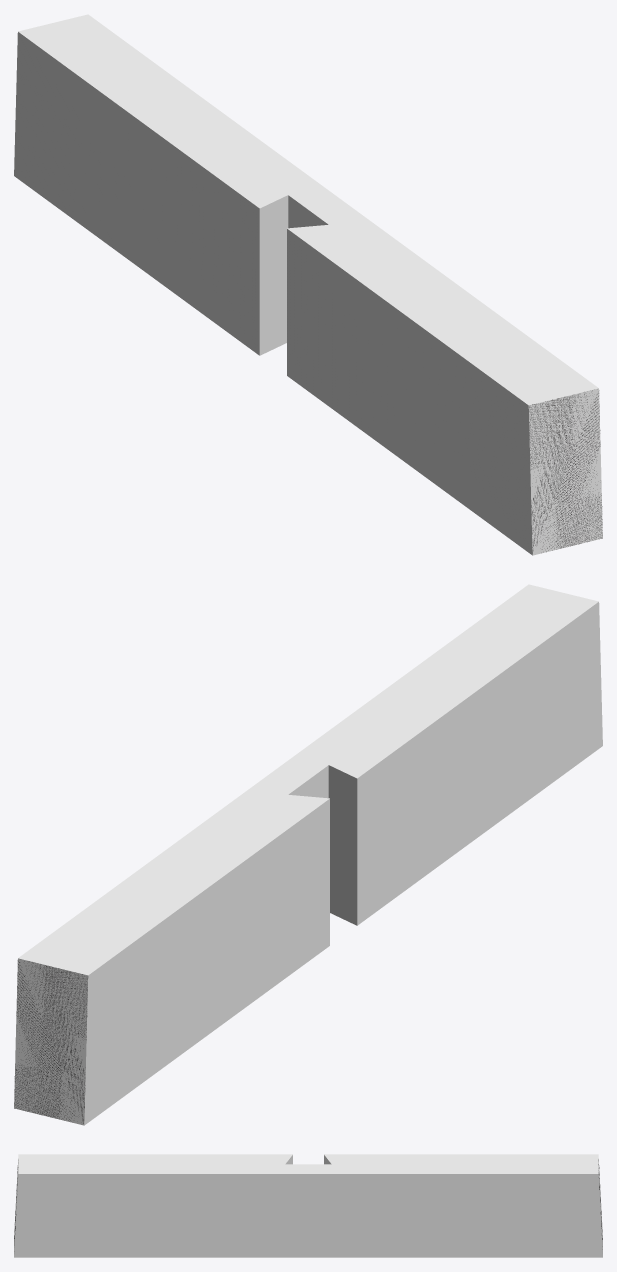
Rendered from original-13.obj.
3 views of the same model, one above another, from view 1: azimuth 30°, elevation 25°; view 2: azimuth 150°, elevation 25°; view 3: azimuth 270°, elevation 25° (orthographic). The views are drawn at different scales.
Parts seen in each view (by area): view 1: mesh18/mesh18-geometry#mesh18-geometry; view 2: mesh18/mesh18-geometry#mesh18-geometry; view 3: mesh18/mesh18-geometry#mesh18-geometry.
Boxes of the visible parts, bbox=[...] form: mesh18/mesh18-geometry#mesh18-geometry: bbox=[14, 14, 602, 555]; mesh18/mesh18-geometry#mesh18-geometry: bbox=[14, 584, 602, 1125]; mesh18/mesh18-geometry#mesh18-geometry: bbox=[14, 1154, 602, 1257].
Bounding box in the file's own units: 0.0256 × 0.0513 × 0.3273.
